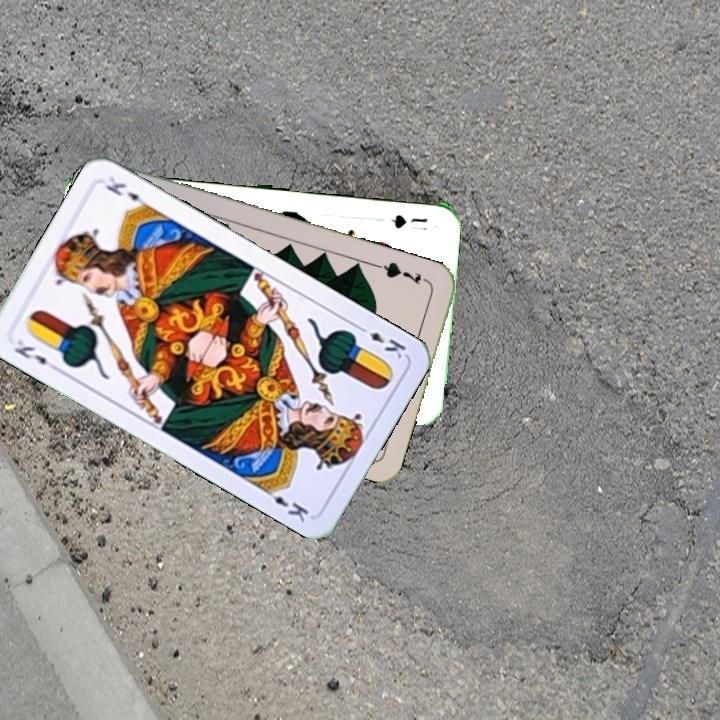EK: (353, 321, 409, 362), (10, 336, 62, 374)
G7: (374, 257, 432, 288)
GU: (387, 211, 430, 229)
